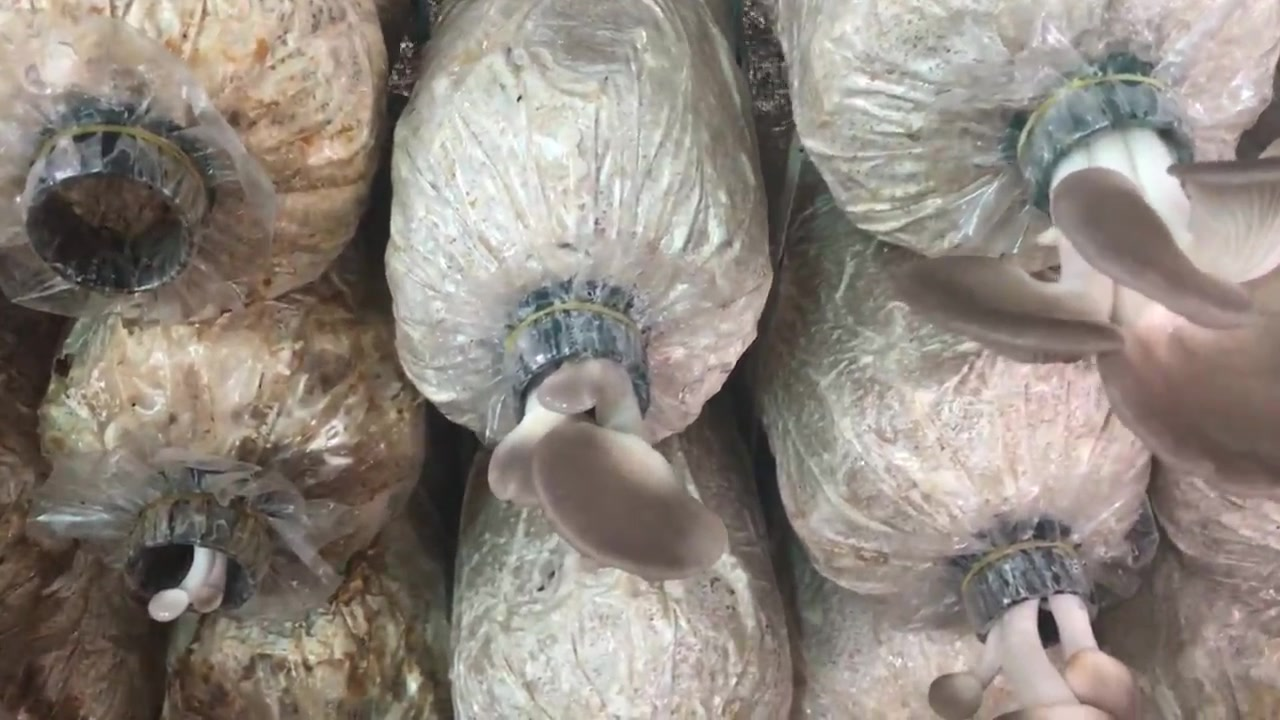nam: (892, 87, 1280, 497), (486, 307, 730, 581), (927, 549, 1132, 720), (128, 507, 260, 624)
